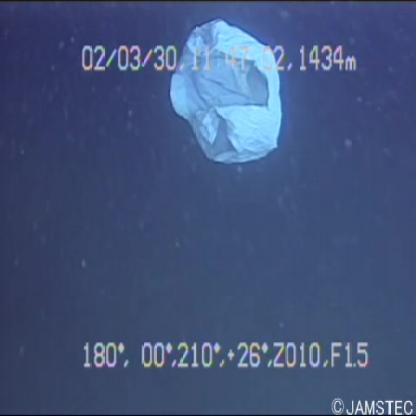Rác: (168, 14, 287, 180)
